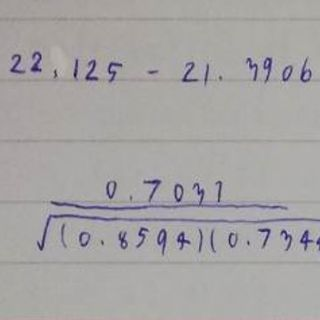.: (50, 66, 61, 80), (215, 72, 226, 84), (244, 238, 253, 249), (99, 238, 107, 248)
0: (104, 178, 118, 201), (77, 230, 92, 250), (173, 182, 185, 204), (227, 230, 239, 250), (281, 64, 294, 82)
1: (214, 179, 224, 205), (202, 61, 211, 85), (72, 56, 80, 79)
2: (180, 59, 201, 84), (8, 51, 27, 77), (83, 57, 99, 82), (29, 50, 45, 73)
3: (244, 55, 260, 82), (279, 228, 294, 254), (191, 181, 205, 205)
4: (298, 228, 314, 253), (175, 230, 192, 252)
5: (106, 59, 123, 82), (134, 225, 150, 249)
6: (299, 56, 313, 83)
7: (142, 178, 164, 204), (256, 225, 272, 252)
8: (117, 230, 129, 251)
9: (156, 227, 168, 257), (262, 55, 274, 84)
